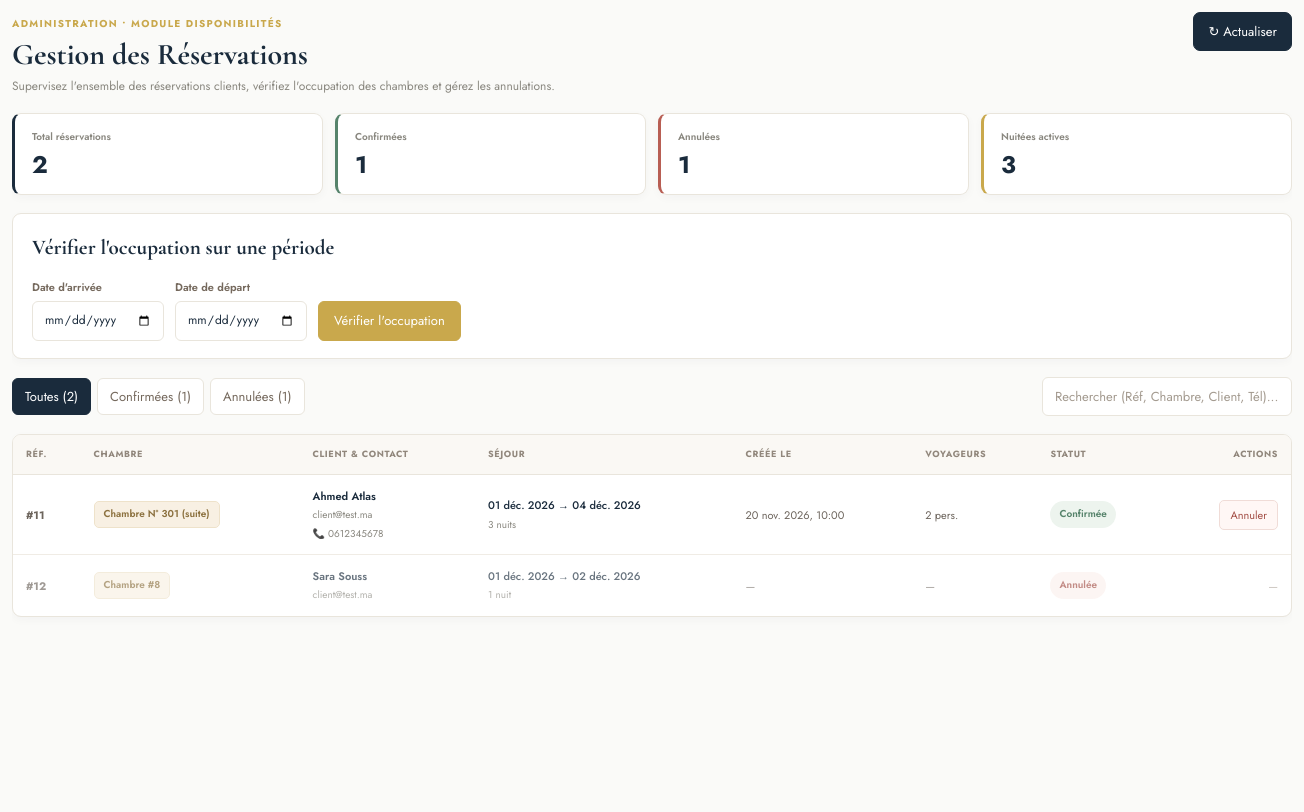
Test: AdminDisponibilitesPage › annule et actualise
Expected: the text "#11" is shown, [13, 475, 81, 555]
Click the button "Annuler": (1249, 515) [1219, 500, 1278, 530]
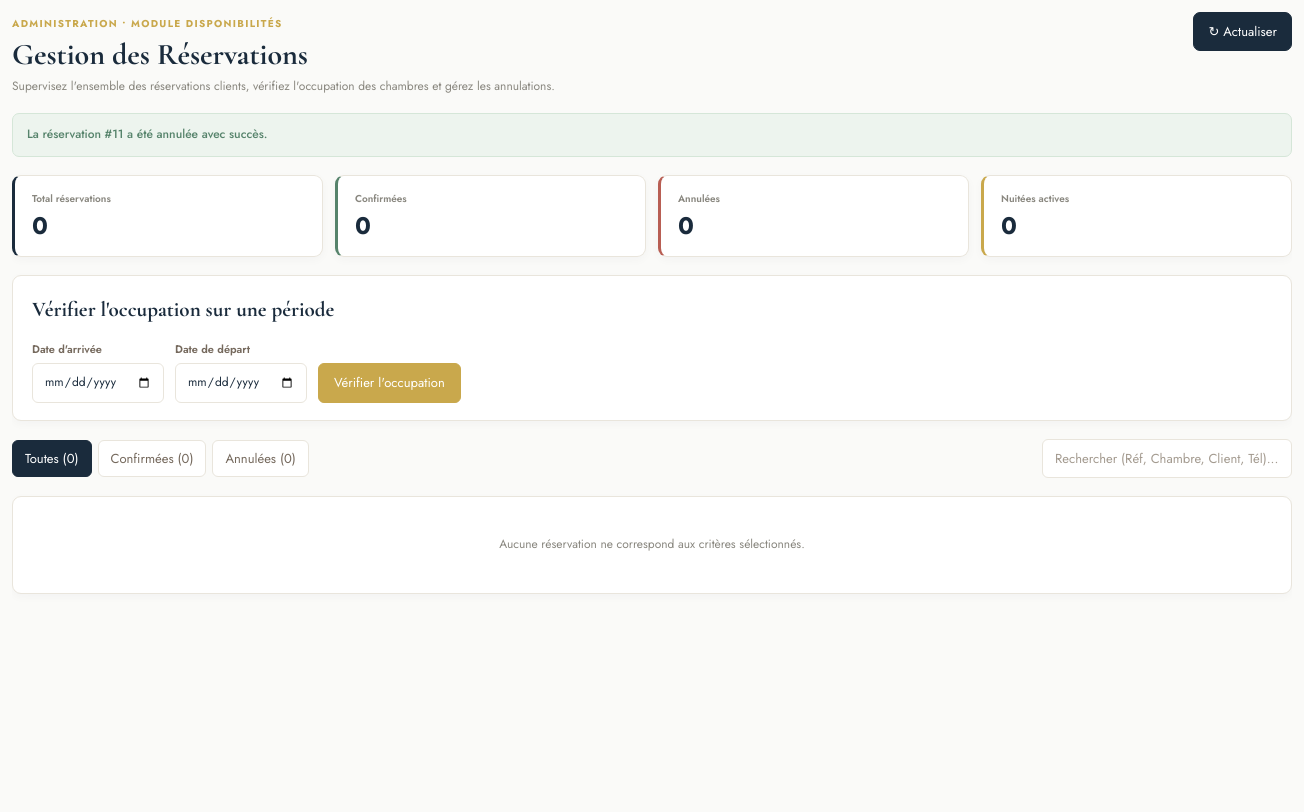
Result: the text "La réservation #11 a été annulée avec succès." is shown at [12, 113, 1292, 157]
